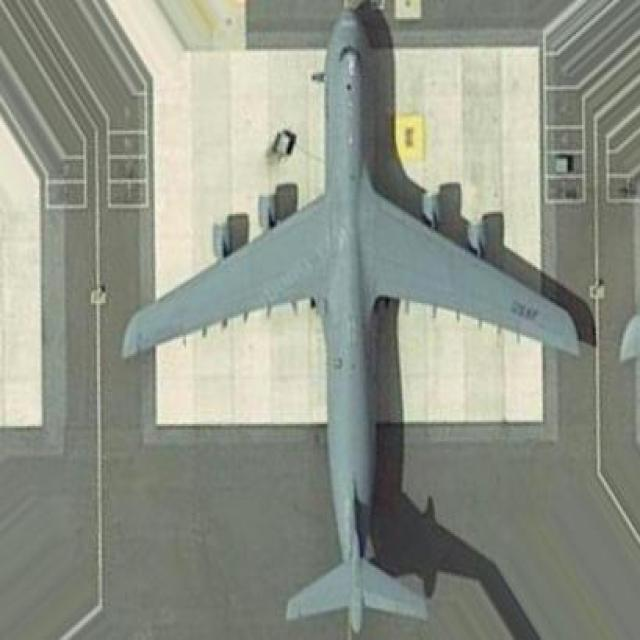C-5_TopDown: (121, 0, 598, 633)
